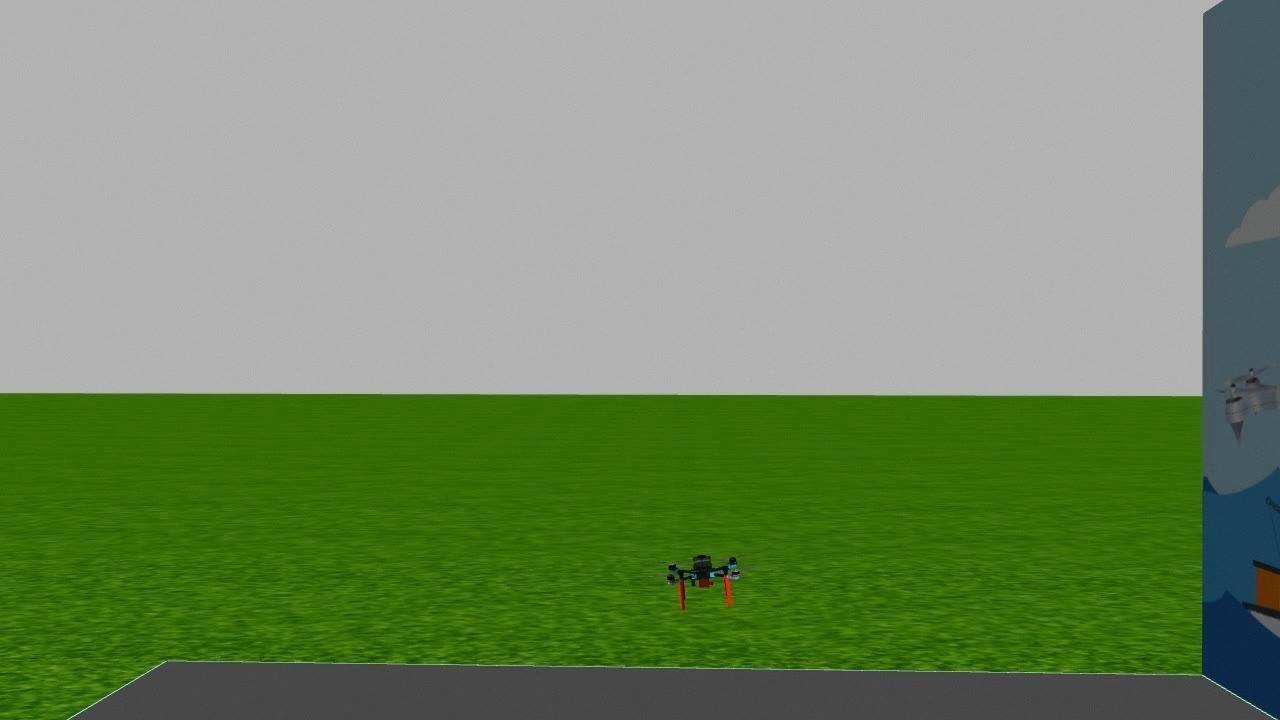UAV: (648, 544, 754, 614)
